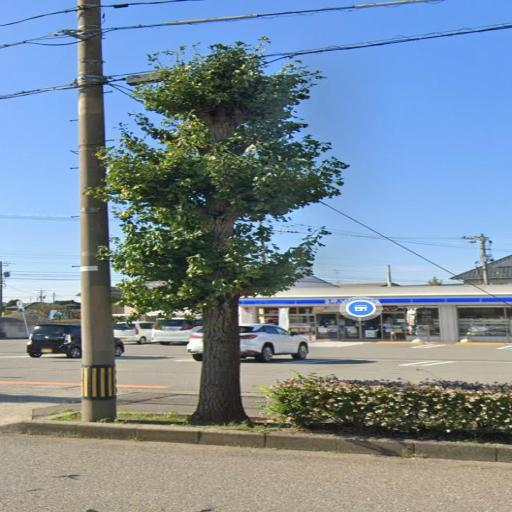Roads: (18, 323, 496, 499)
Trees: (112, 34, 338, 446)
